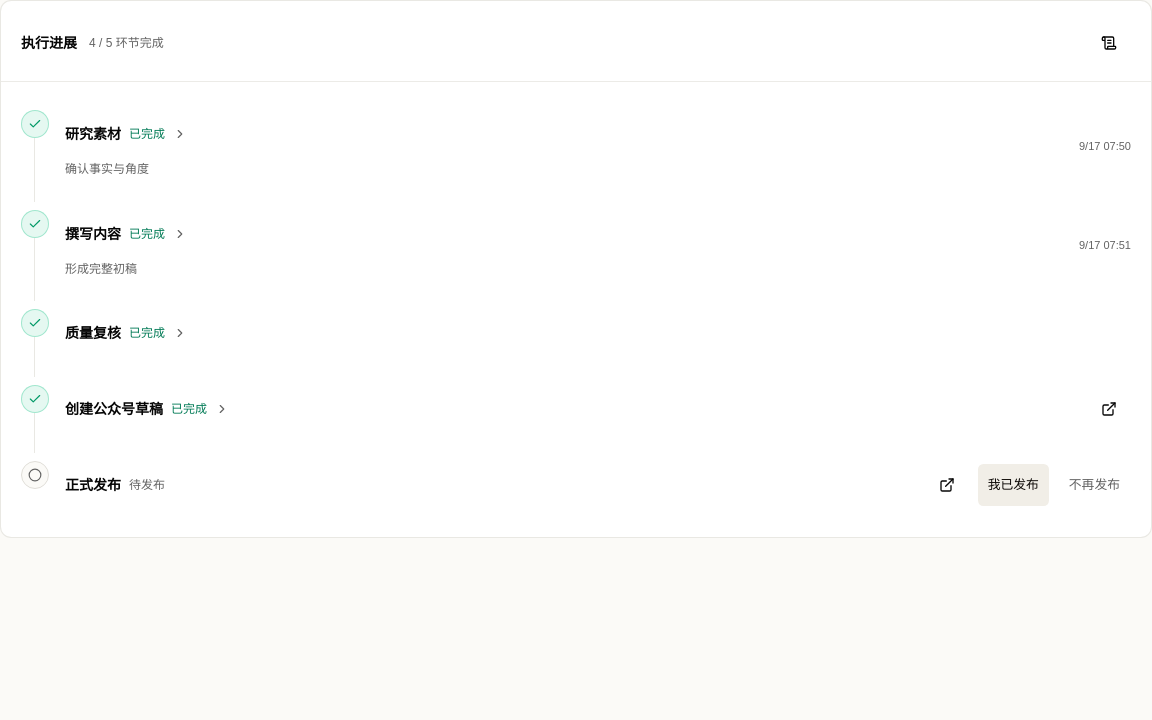
Test case: TaskExecutionRail › explains that skipping publication preserves both the task and WeChat draft
The width and height of the screenshot is (1152, 720).
Click the button "不再发布".
click(1094, 485)  # box [1058, 463, 1131, 507]
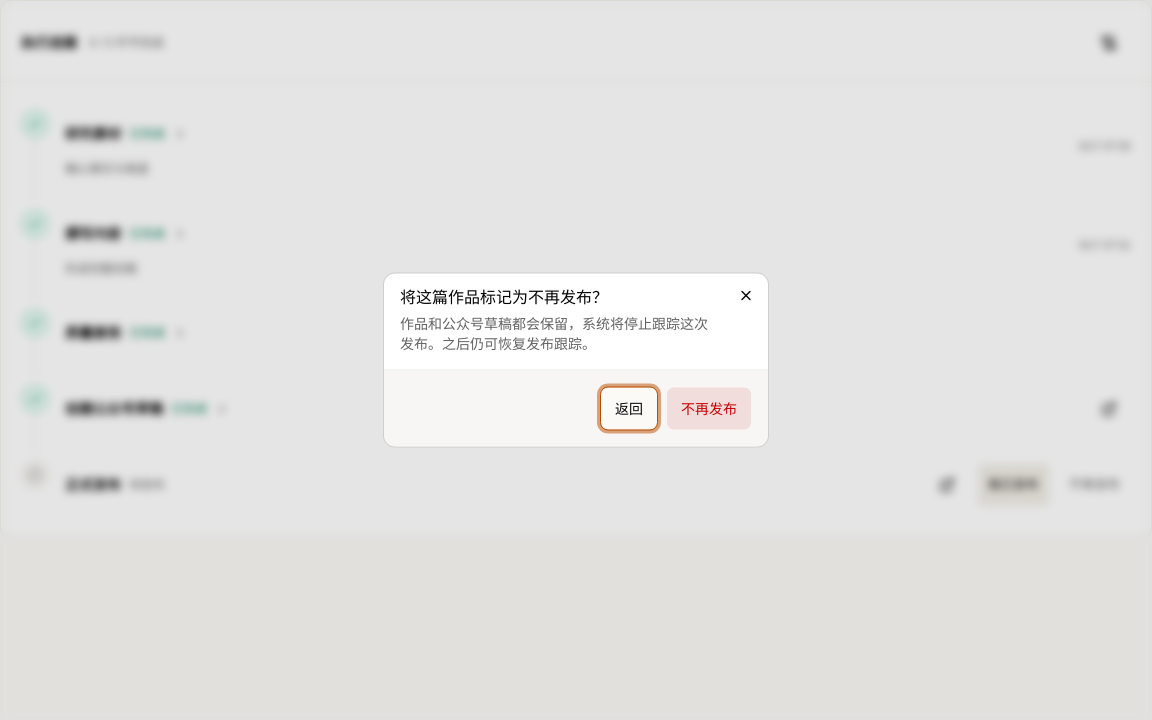
Check: the heading "将这篇作品标记为不再发布？" is shown, box [400, 288, 608, 306]
Check: the text "作品和公众号草稿都会保留，系统将停止跟踪这次发布。之后仍可恢复发布跟踪。" is shown, box [400, 314, 720, 354]
